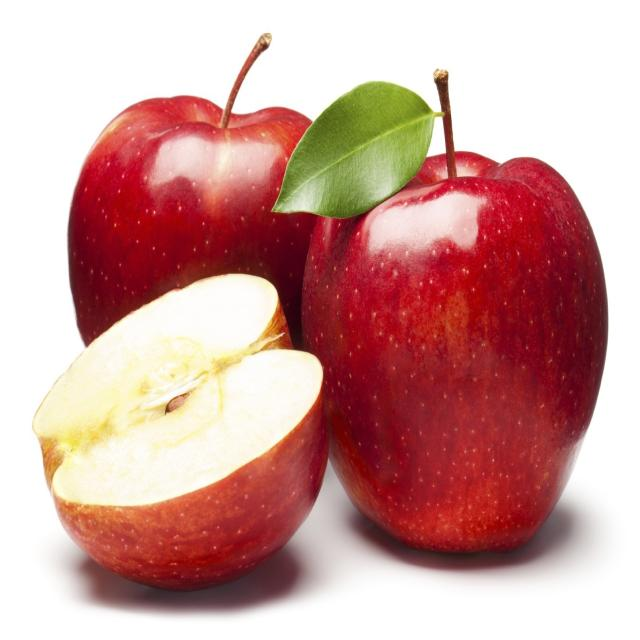organic: (300, 149, 610, 562), (30, 273, 327, 590)
